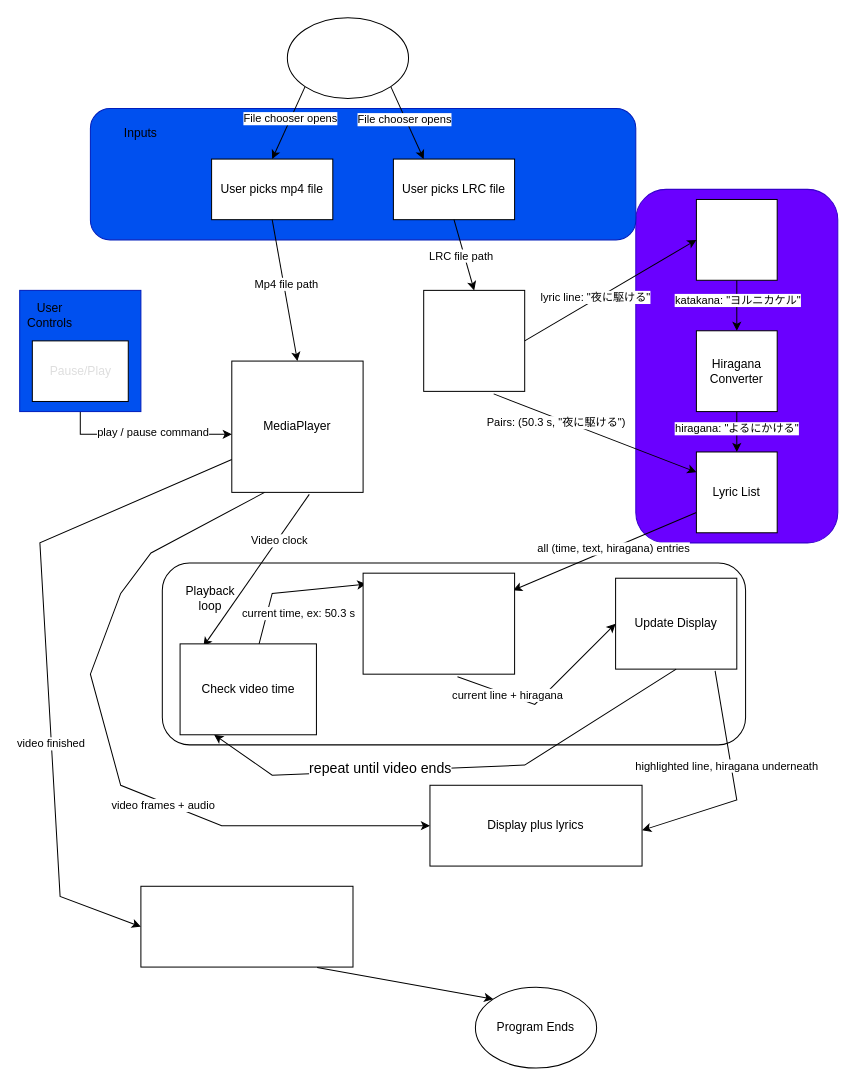
This 856x1086 diagram has some shape labels left out. The centre of each missing label's shape, as x and y in pixels:
"Kuromoji tokenizer" goes at point 736,239.
"Lyric parser" goes at point 474,340.
"Program Opens" goes at point 347,57.
"Use time to find current Line" goes at point 438,623.
"Video reaches end" goes at point 246,926.
